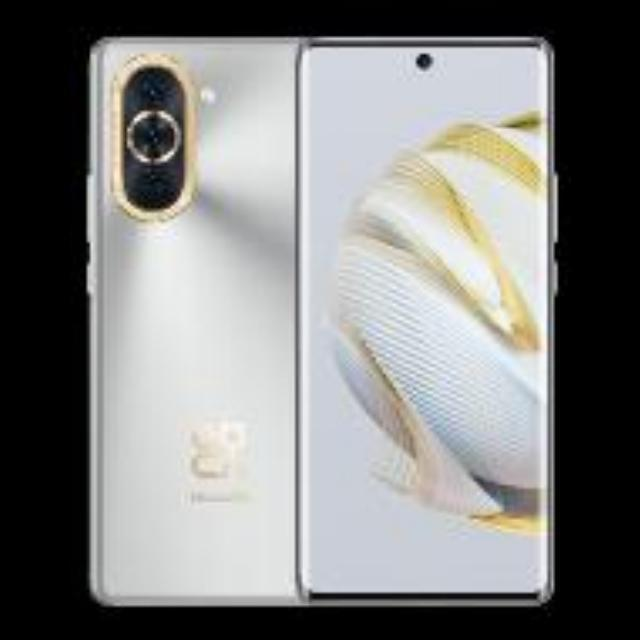PhoneUse: (306, 38, 552, 602), (88, 36, 300, 604)
